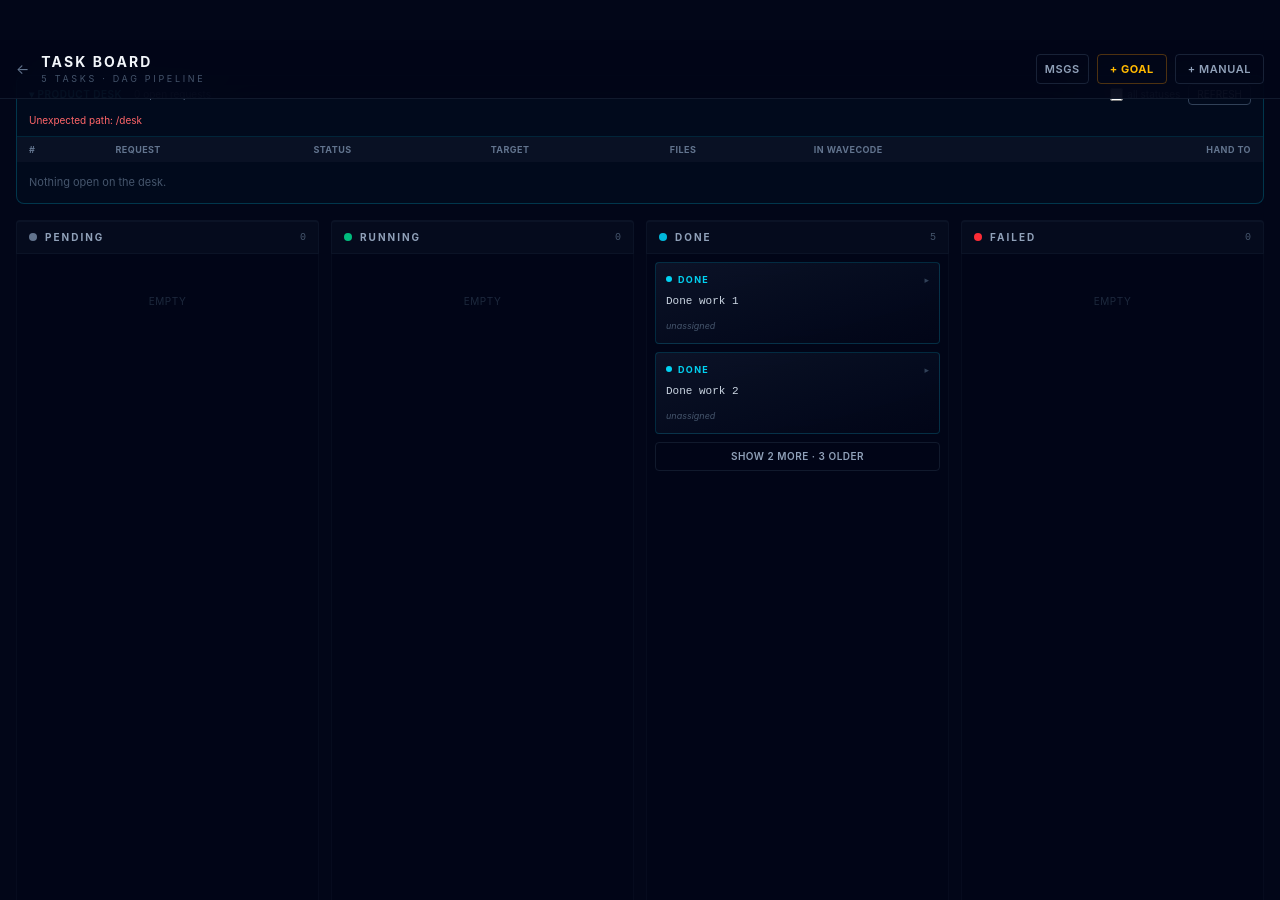
TaskBoard › done tasks come paged with the real column count; SHOW MORE asks the board for a bigger page
expect the text "Done work 2" is shown: met, box [666,385,739,397]
expect the text "Done work 3" is not shown: met
Click the button "SHOW 2 MORE · 3 OLDER": x=798, y=456 [655,442,940,471]
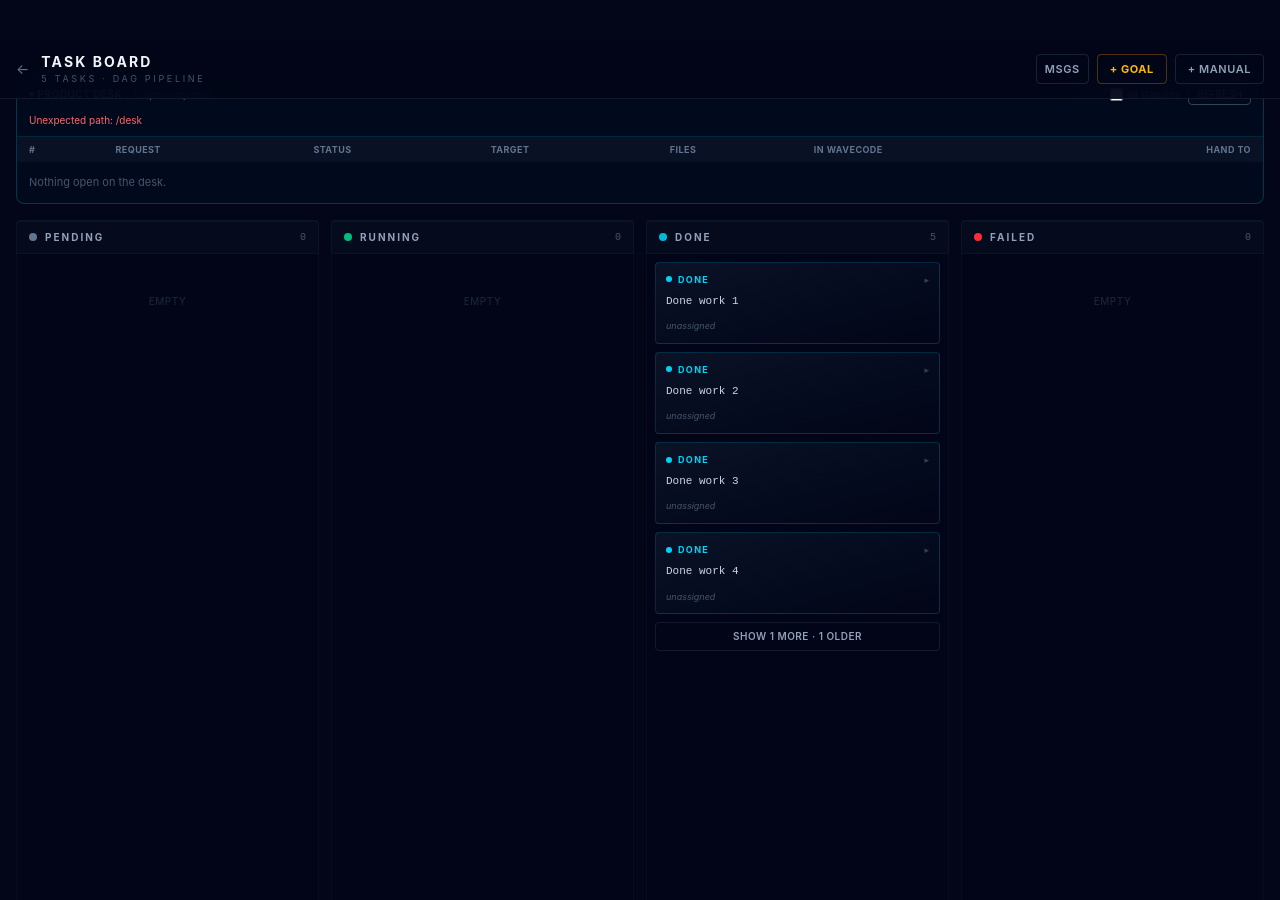
expect the text "Done work 4" is shown: met, box [666,565,739,577]
